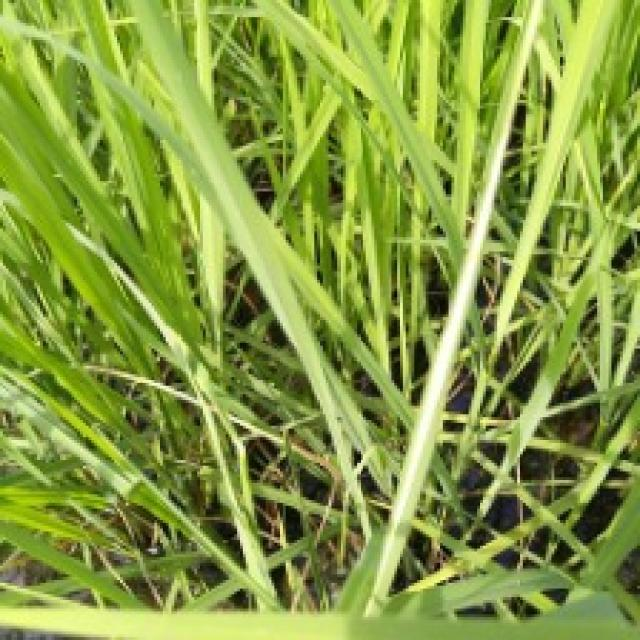Rice___Bacterial_Leaf_Blight: (331, 0, 547, 623)
